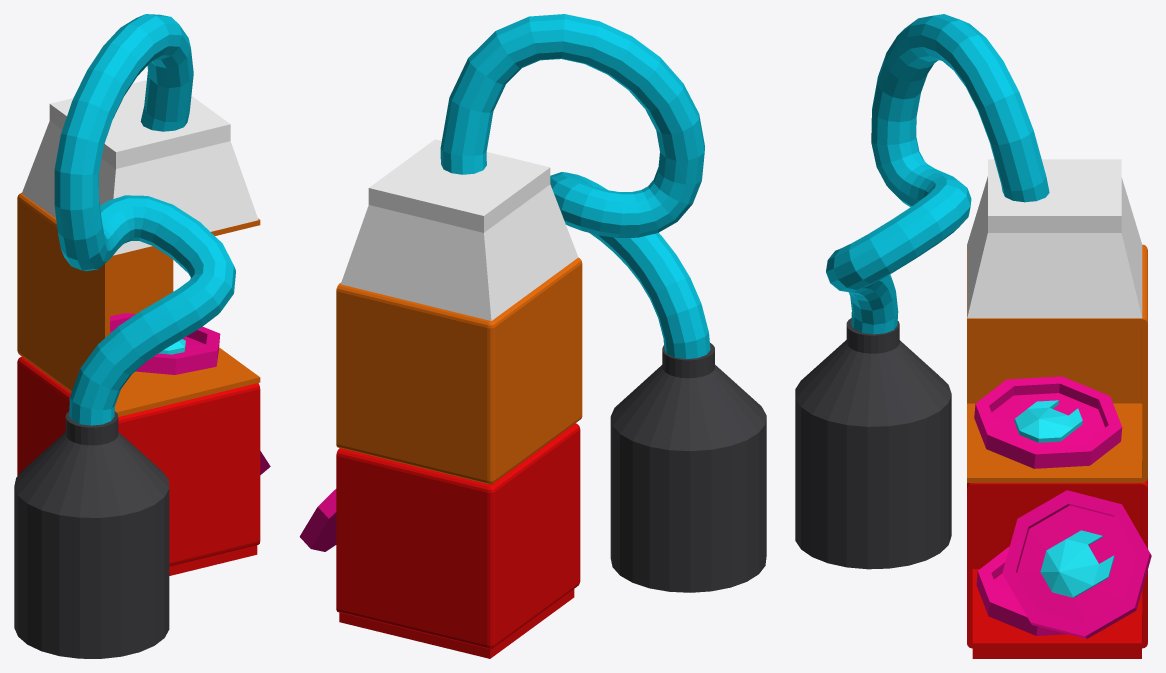
Rendered from meelk_factoryx2.glb.
The picture shows the model from 3 angles, left to right: view 1: azimuth 30°, elevation 25°; view 2: azimuth 150°, elevation 25°; view 3: azimuth 270°, elevation 25°; orthographic projection.
Visible parts, largest first — view 1: Cylinder.009, BezierCurve, Cube.002, Cube.005, Cube.008, Cylinder.018; view 2: Cube.002, Cube.005, Cylinder.009, BezierCurve, Cube.008, Cylinder.017; view 3: Cylinder.009, BezierCurve, Cube.008, Cube.005, Cylinder.017, Cube.002, Cylinder.018, Cylinder.015.
Boxes of the visible parts, x1=… form: Cylinder.009: x1=14, y1=411, x2=169, y2=658; BezierCurve: x1=54, y1=14, x2=235, y2=425; Cube.002: x1=17, y1=356, x2=260, y2=575; Cube.005: x1=17, y1=192, x2=260, y2=416; Cube.008: x1=22, y1=80, x2=258, y2=255; Cylinder.018: x1=110, y1=313, x2=220, y2=374; Cube.002: x1=336, y1=423, x2=580, y2=658; Cube.005: x1=336, y1=257, x2=582, y2=484; Cylinder.009: x1=610, y1=343, x2=766, y2=592; BezierCurve: x1=440, y1=14, x2=710, y2=359; Cube.008: x1=341, y1=139, x2=578, y2=320; Cylinder.017: x1=299, y1=489, x2=336, y2=551; Cylinder.009: x1=795, y1=318, x2=951, y2=569; BezierCurve: x1=826, y1=14, x2=1049, y2=334; Cube.008: x1=967, y1=159, x2=1142, y2=318; Cube.005: x1=967, y1=244, x2=1147, y2=482; Cylinder.017: x1=1002, y1=490, x2=1151, y2=638; Cube.002: x1=967, y1=478, x2=1147, y2=658; Cylinder.018: x1=974, y1=376, x2=1122, y2=468; Cylinder.015: x1=976, y1=546, x2=1067, y2=635.
Bounding box in the file's own units: 0.9638 × 1.56 × 0.8794.
